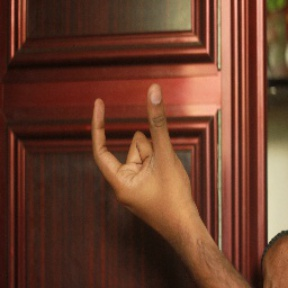U: (83, 80, 188, 210)
